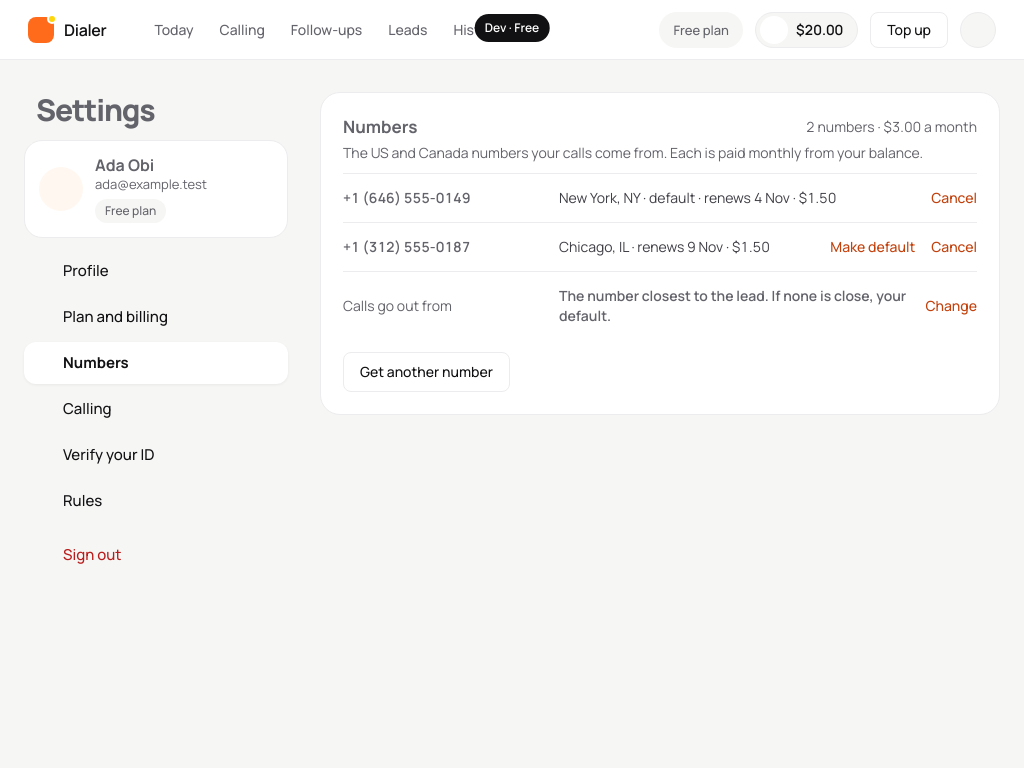
it: live numbers › settings lists numbers and cancels, keeps and sets the default
This screenshot has width=1024, height=768.
Check: the text "2 numbers · $3.00 a month" is shown, box [806,117,977,137]
Check: the text "New York, NY · default · renews 4 Nov · $1.50" is shown, box [559,188,836,207]
Click the button "Make default" at (873, 247), box [830,237,915,257]
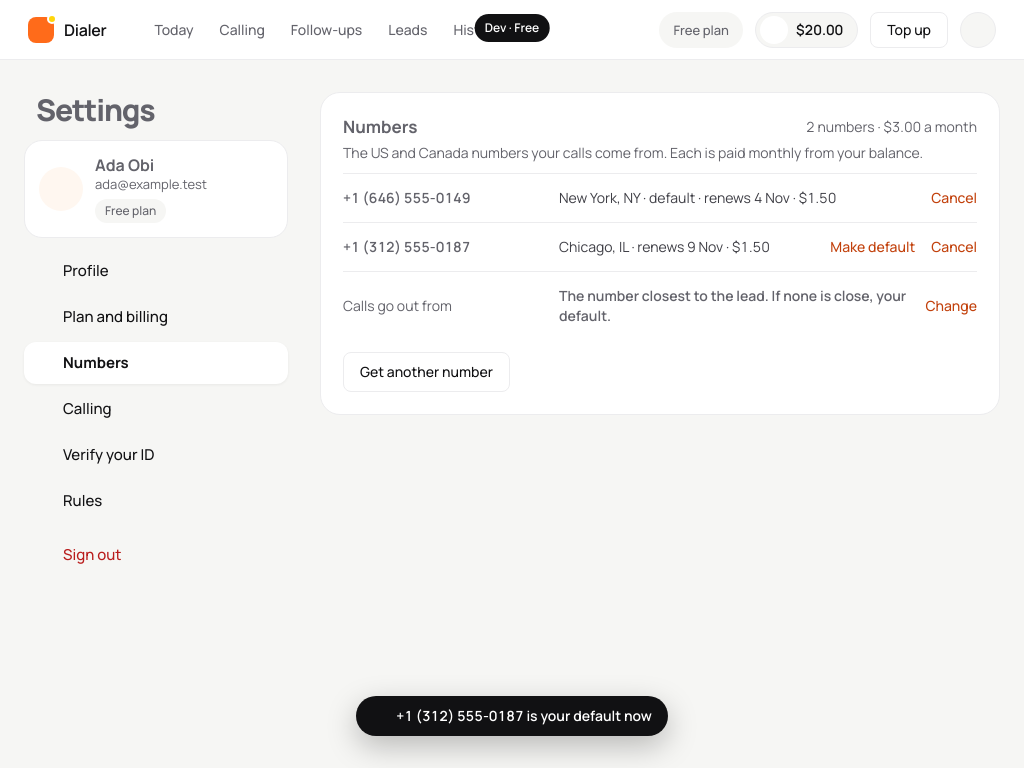
Check: the text "+1 (312) 555-0187 is your default now" is shown, box [356,696,668,736]
Click the button "Cancel" in the row of "Chicago, IL · renews 9 Nov · $1.50" at (954, 247), box [931,237,977,257]
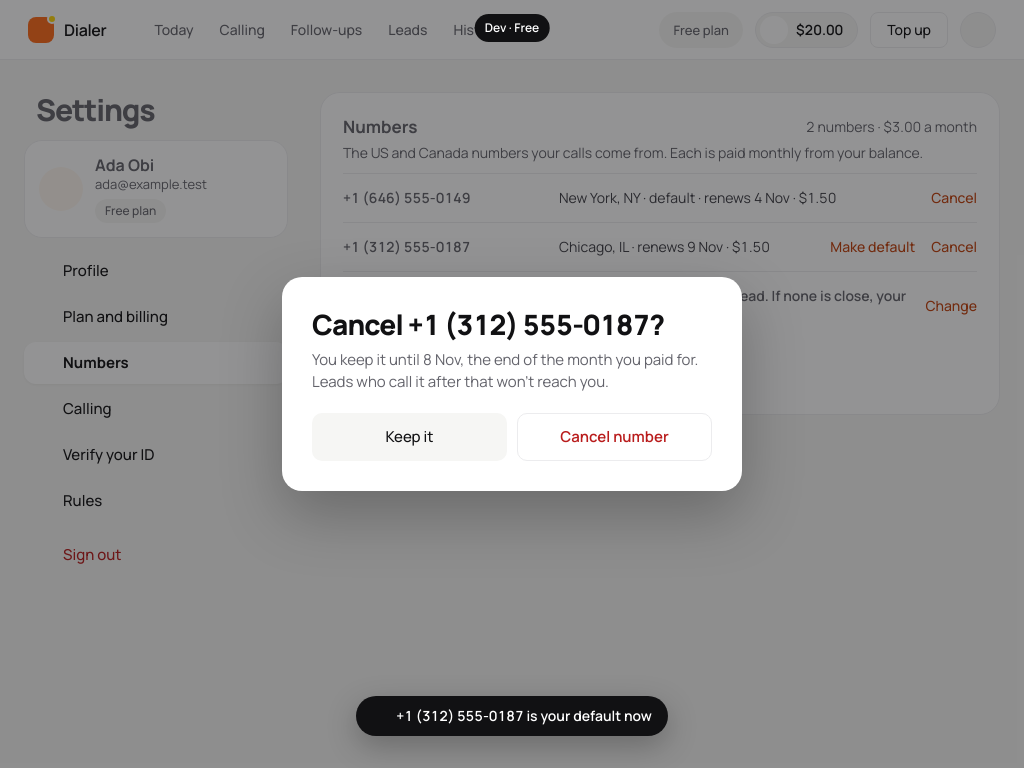
Check: the text "You keep it until 8 Nov, the end of the month you paid for" is shown, box [312,349,698,370]
Click the button "Cancel number" at (614, 437), box [517,413,712,461]
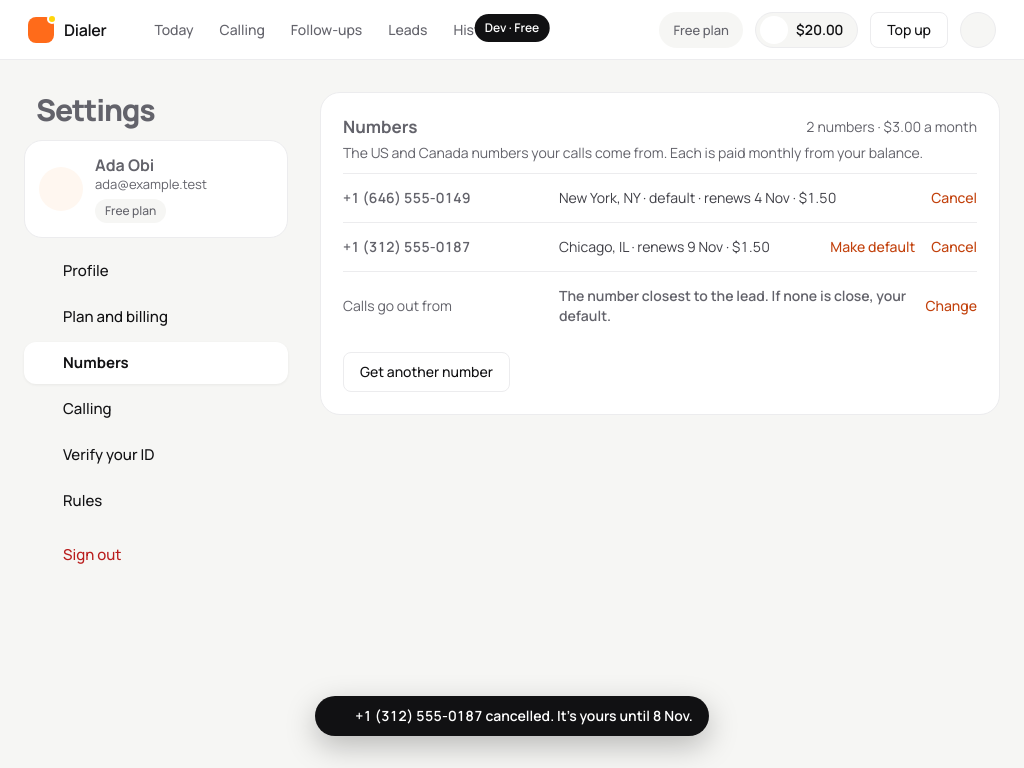
Check: the text "+1 (312) 555-0187 cancelled. It's yours until 8 Nov." is shown, box [315,696,709,736]
